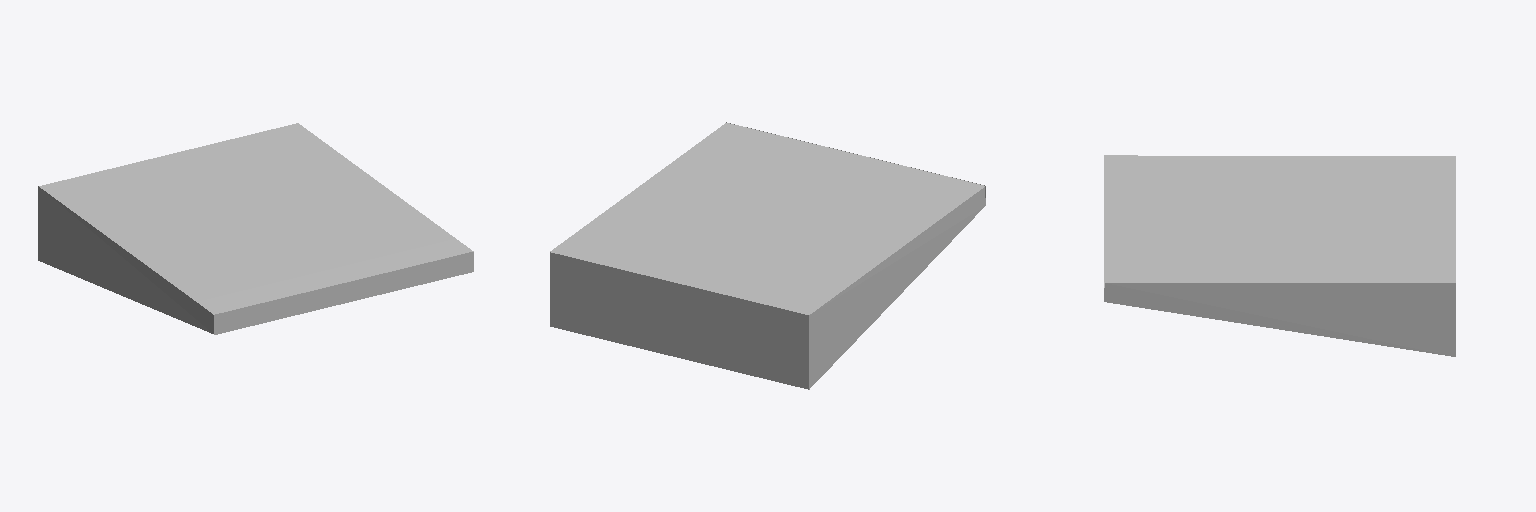
The model's file is Platform_FlatB.obj.
3 renders of one model, left to right at view 1: azimuth 30°, elevation 25°; view 2: azimuth 150°, elevation 25°; view 3: azimuth 270°, elevation 25°, orthographic.
Parts seen in each view (by area): view 1: Floor_Base.017; view 2: Floor_Base.017; view 3: Floor_Base.017.
Part boxes in pixels (bbox=[...]): Floor_Base.017: bbox=[38, 123, 473, 334]; Floor_Base.017: bbox=[550, 122, 985, 389]; Floor_Base.017: bbox=[1104, 155, 1455, 356].
Size of the model in its own units: 8.03 by 2.22 by 9.41.